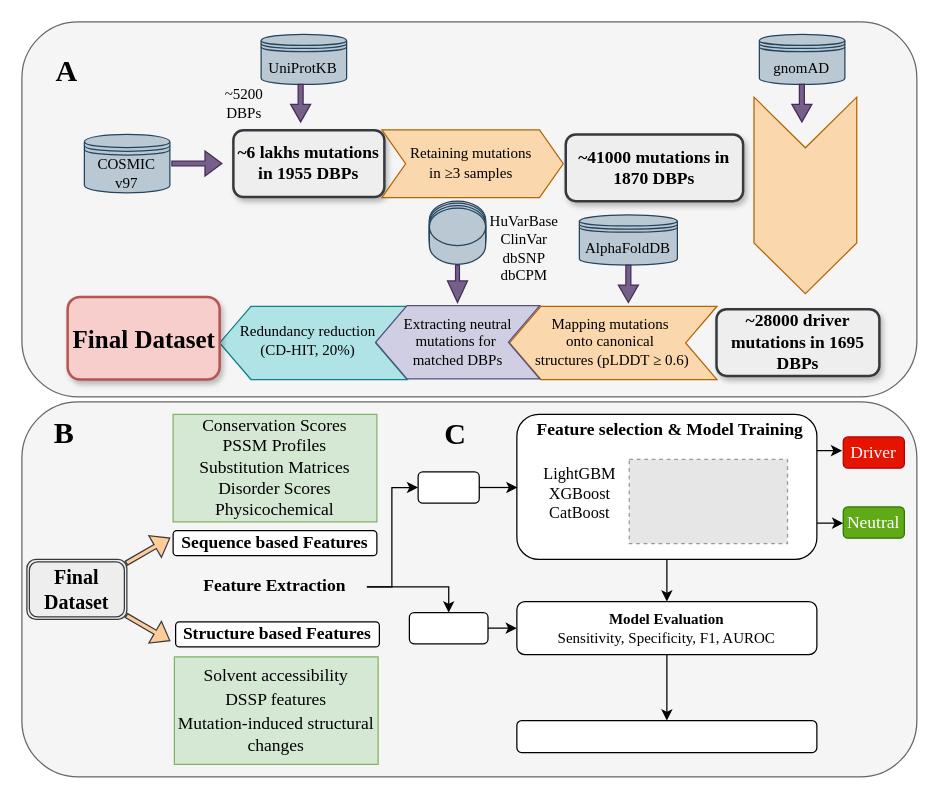
Image size: 939x799. Some labels were removed from this diagram. Grey dashed boxes stand in for pictures. Each missing label, with the centre of its shape:
Blind Test: the point at 448,627
Model Comparison with existing methods: the point at 666,735
Removing mutations obeserved in population data: the point at 805,195
Train: the point at 448,487
